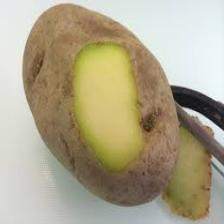Defected potato: (22, 2, 186, 210)
